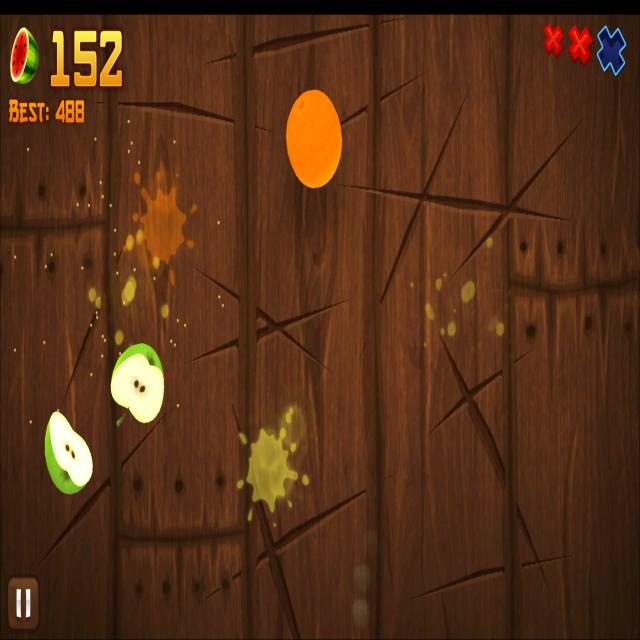fruit: (286, 90, 342, 189)
